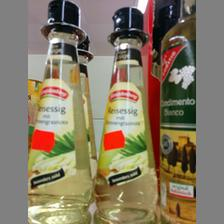Essig: (94, 7, 162, 223), (27, 0, 92, 224)
